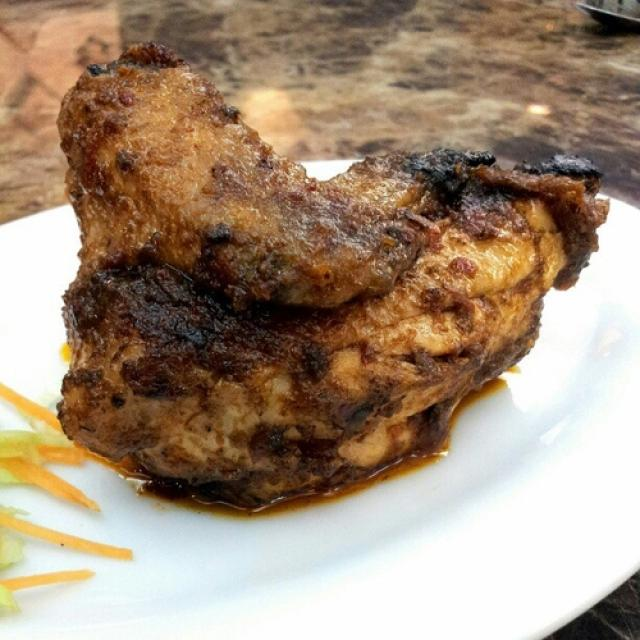鸡肉料理 含炸鸡: (29, 26, 603, 552)
